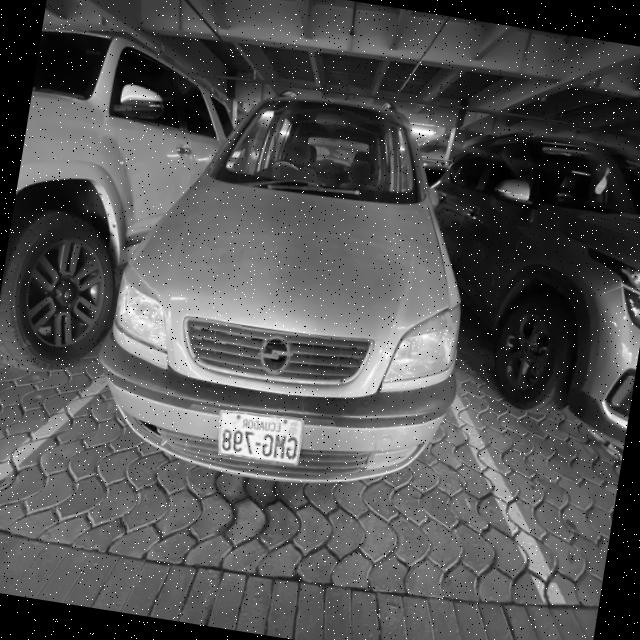Placa: (218, 411, 302, 465)
